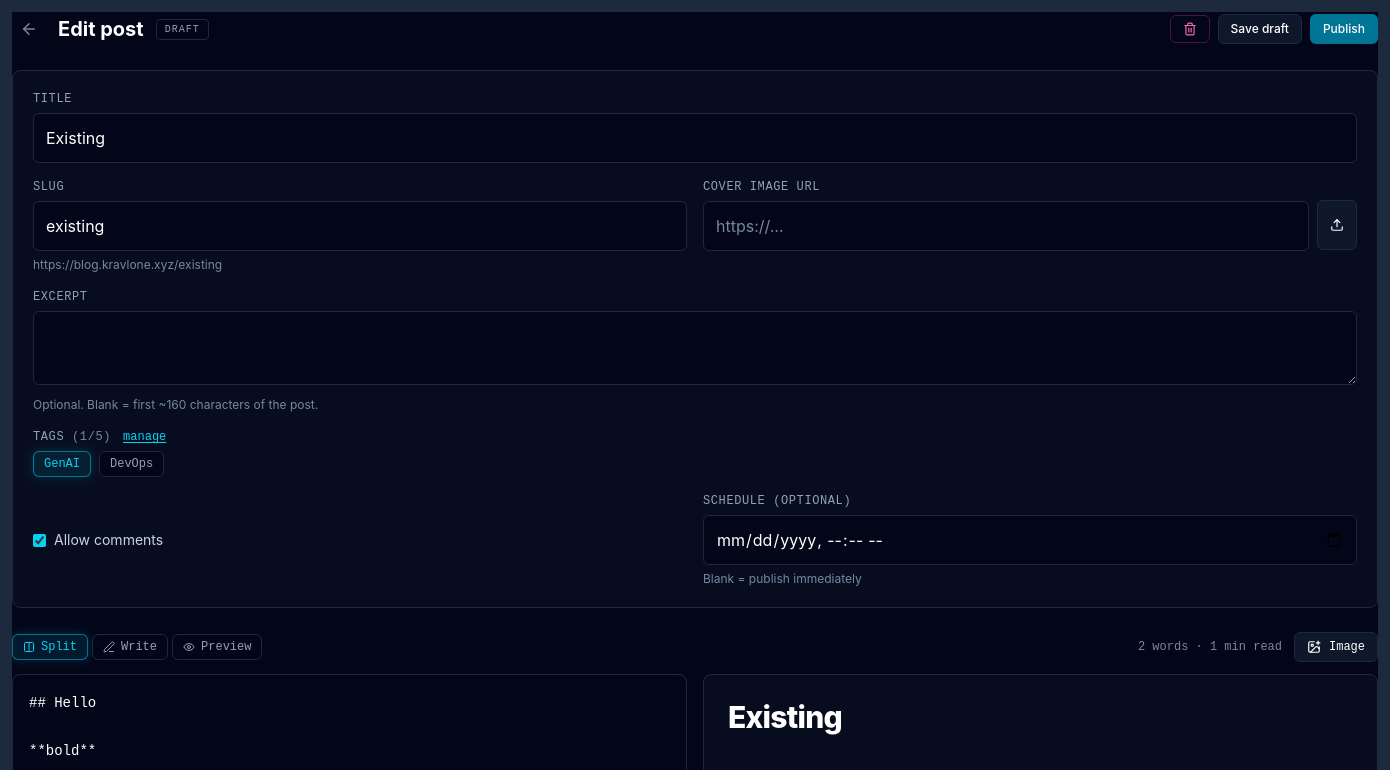
Scenario: PostEditor › shows server validation errors
Type "?" into the field labelled "Title" at (695, 138), box [33,113,1357,163]
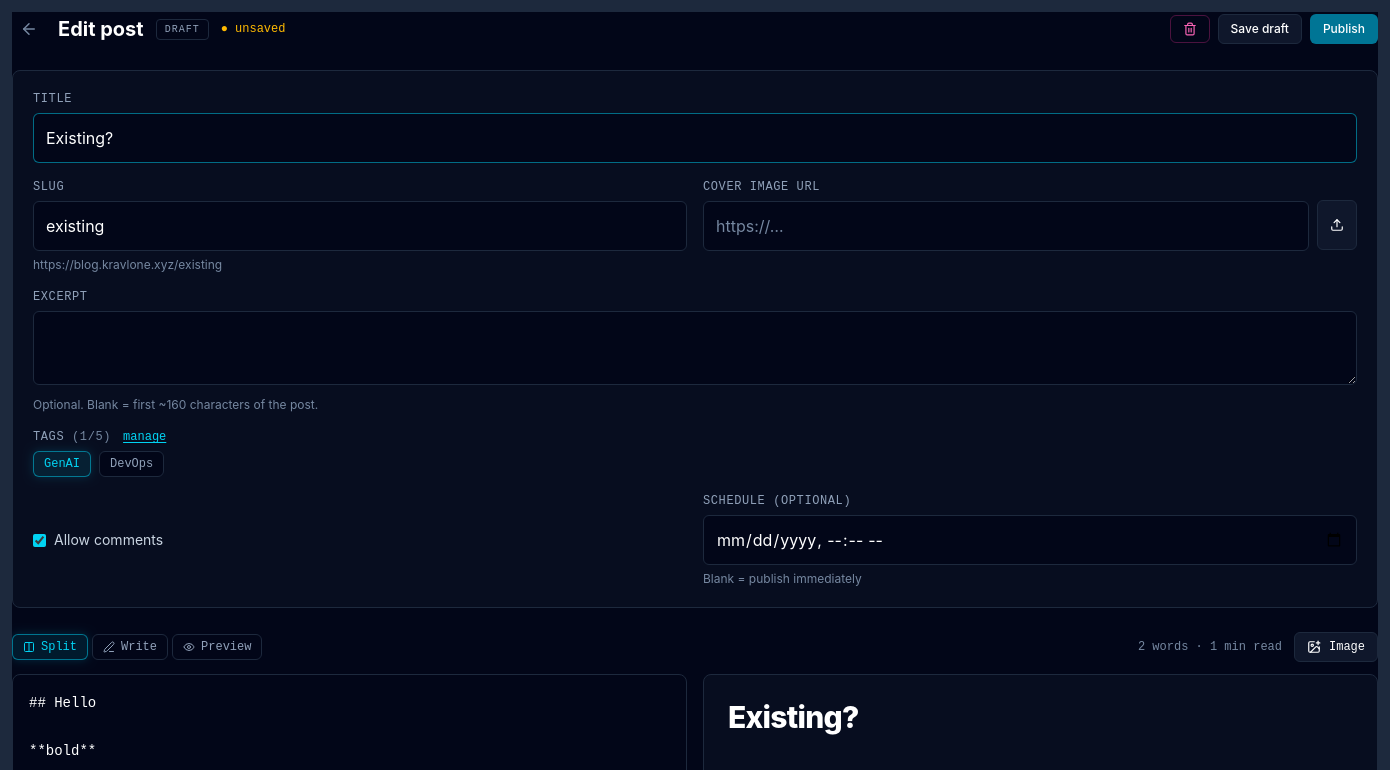
Click the button "Save draft" at (1260, 29), box [1218,14,1302,44]
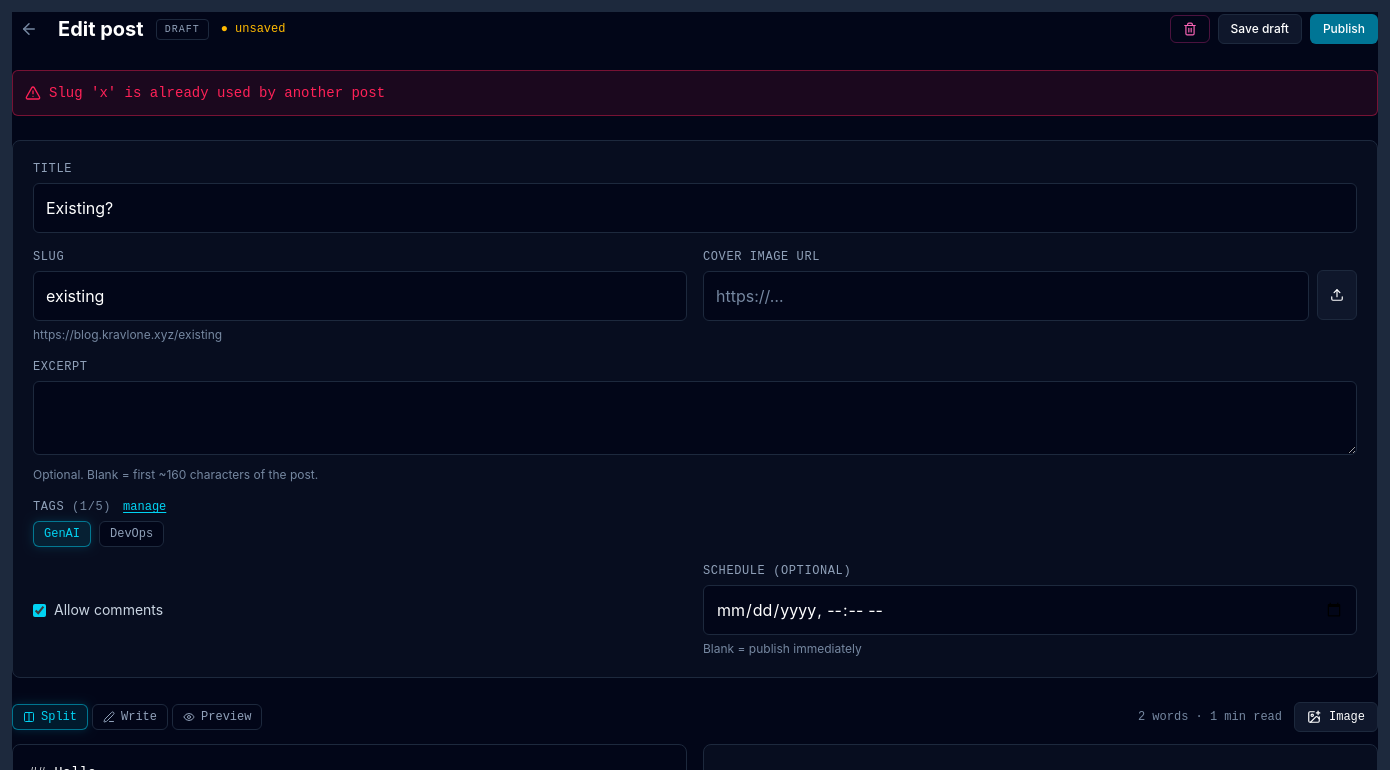
Expected: the message shows "already used", [49,85,385,101]
